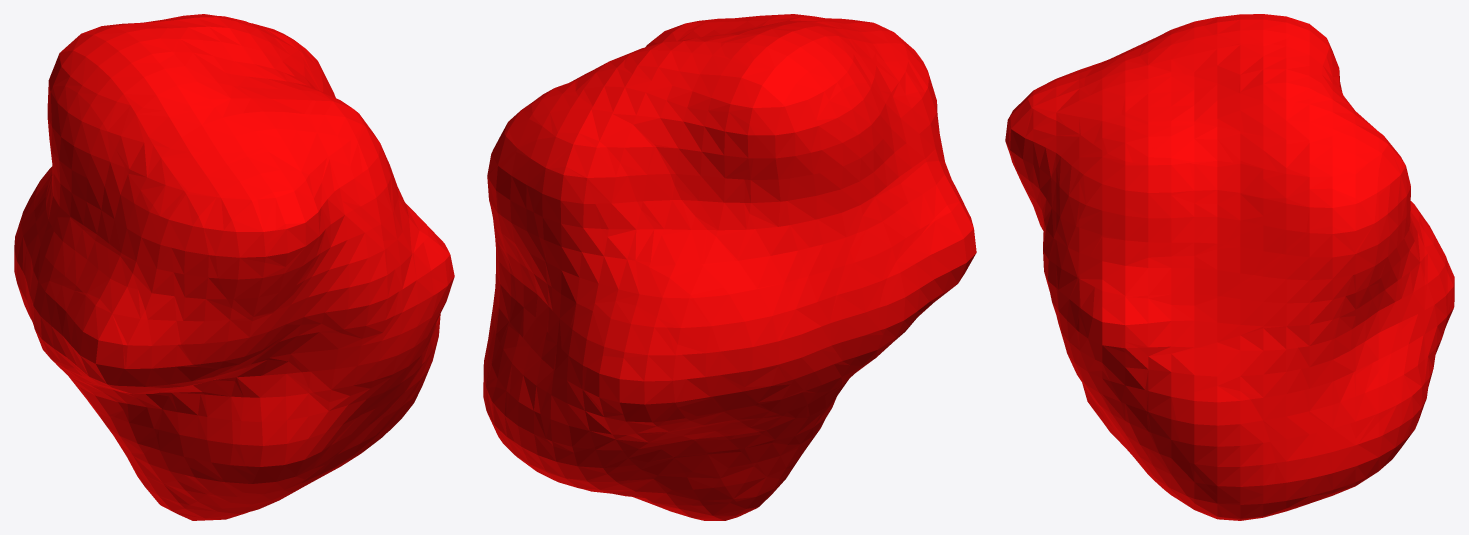
Rendered from iscX_coarse.dae.
3 views of the same model, side by side, from view 1: azimuth 30°, elevation 25°; view 2: azimuth 150°, elevation 25°; view 3: azimuth 270°, elevation 25° (orthographic). The views are drawn at different scales.
Visible parts, largest first — view 1: iscX; view 2: iscX; view 3: iscX.
Part boxes in pixels (left/top/right/bottom): iscX: left=14, top=14, right=454, bottom=520; iscX: left=483, top=14, right=976, bottom=520; iscX: left=1005, top=14, right=1454, bottom=520.
Size of the model in its own units: 29.54 by 34.41 by 31.43.
